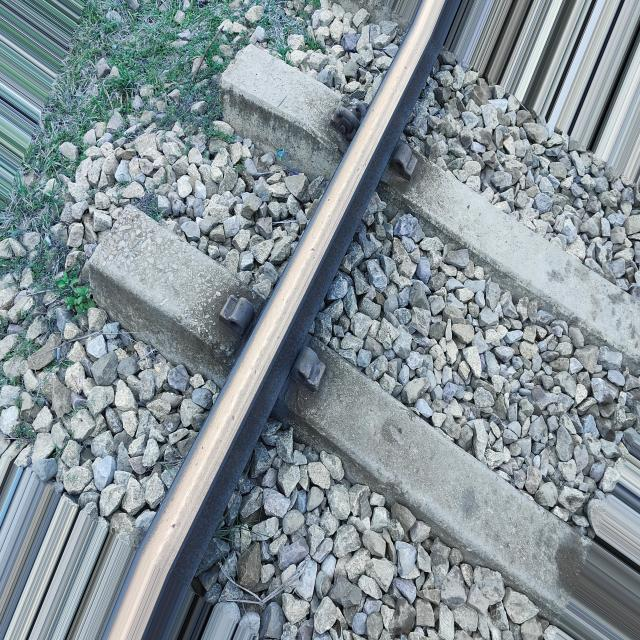Good Fasteners: (331, 102, 367, 140)
Missing Fastener: (290, 340, 329, 398), (206, 293, 255, 338), (393, 134, 424, 173)
